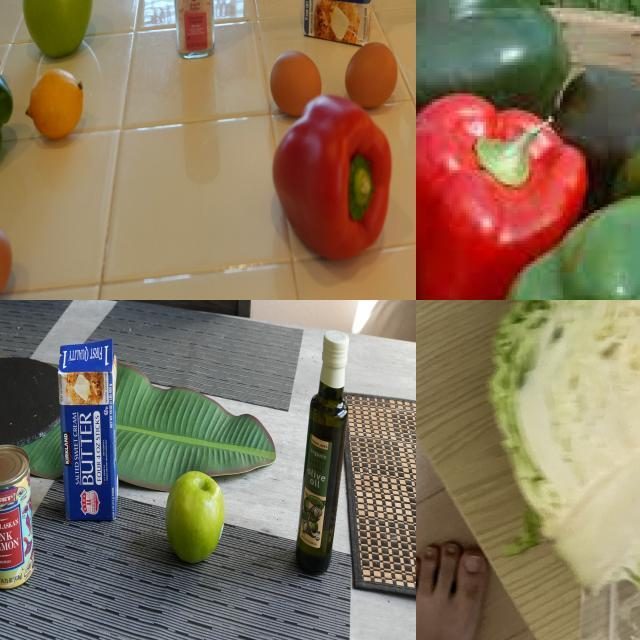bell_pepper: (260, 101, 398, 265), (417, 1, 585, 125), (500, 188, 640, 301), (156, 465, 238, 571), (1, 54, 16, 181)
cabbage: (487, 301, 640, 616)
egg: (343, 39, 403, 112), (269, 47, 323, 119), (1, 220, 18, 301)
